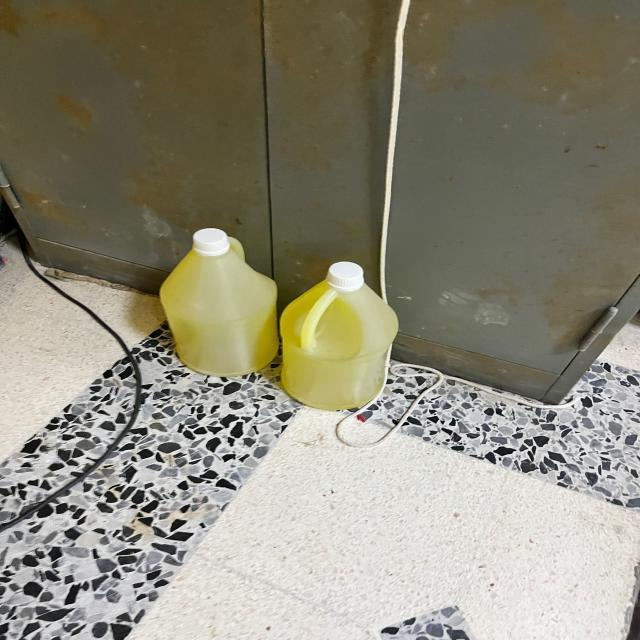HDPE Plastic: (151, 226, 280, 383), (286, 255, 397, 411)
